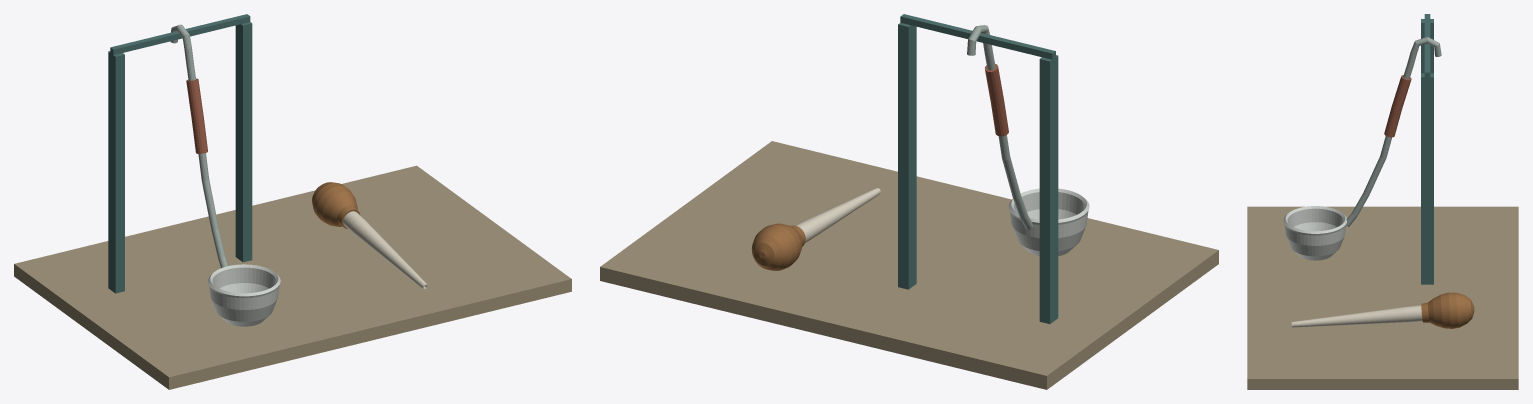
The picture shows the model from 3 angles, left to right: view 1: azimuth 30°, elevation 25°; view 2: azimuth 150°, elevation 25°; view 3: azimuth 270°, elevation 25°; orthographic projection. The views are drawn at different scales.
Parts seen in each view (by area): view 1: SCENE_ONLY__ConnectedLowDeckAndOpenUpperRail, ladle__WholeDeepOpenBowlWithSolidBottomAndRolledLip, ladle__WholeContinuousRisingShaftAndOpenReturnHook, baster__WholeRoundedBulbExteriorAndNarrowNeck, baster__WholeThroughBoredTaperedTube, ladle__WholeUpperGripSleeve; view 2: SCENE_ONLY__ConnectedLowDeckAndOpenUpperRail, ladle__WholeDeepOpenBowlWithSolidBottomAndRolledLip, baster__WholeRoundedBulbExteriorAndNarrowNeck, ladle__WholeContinuousRisingShaftAndOpenReturnHook, baster__WholeThroughBoredTaperedTube, ladle__WholeUpperGripSleeve; view 3: SCENE_ONLY__ConnectedLowDeckAndOpenUpperRail, ladle__WholeDeepOpenBowlWithSolidBottomAndRolledLip, baster__WholeThroughBoredTaperedTube, baster__WholeRoundedBulbExteriorAndNarrowNeck, ladle__WholeContinuousRisingShaftAndOpenReturnHook, ladle__WholeUpperGripSleeve.
Part boxes in pixels (box(x1,y1,x2,y2)): SCENE_ONLY__ConnectedLowDeckAndOpenUpperRail: box(14, 14, 571, 389); ladle__WholeDeepOpenBowlWithSolidBottomAndRolledLip: box(208, 264, 280, 326); ladle__WholeContinuousRisingShaftAndOpenReturnHook: box(170, 24, 228, 268); baster__WholeRoundedBulbExteriorAndNarrowNeck: box(312, 182, 360, 228); baster__WholeThroughBoredTaperedTube: box(343, 211, 428, 289); ladle__WholeUpperGripSleeve: box(186, 78, 207, 153); SCENE_ONLY__ConnectedLowDeckAndOpenUpperRail: box(600, 14, 1218, 389); ladle__WholeDeepOpenBowlWithSolidBottomAndRolledLip: box(1008, 188, 1089, 255); baster__WholeRoundedBulbExteriorAndNarrowNeck: box(751, 223, 805, 270); ladle__WholeContinuousRisingShaftAndOpenReturnHook: box(967, 25, 1033, 229); baster__WholeThroughBoredTaperedTube: box(796, 188, 880, 242); ladle__WholeUpperGripSleeve: box(984, 64, 1008, 136); SCENE_ONLY__ConnectedLowDeckAndOpenUpperRail: box(1247, 14, 1518, 389); ladle__WholeDeepOpenBowlWithSolidBottomAndRolledLip: box(1283, 206, 1346, 260); baster__WholeThroughBoredTaperedTube: box(1291, 305, 1422, 327); baster__WholeRoundedBulbExteriorAndNarrowNeck: box(1421, 292, 1474, 328); ladle__WholeContinuousRisingShaftAndOpenReturnHook: box(1346, 37, 1441, 226); ladle__WholeUpperGripSleeve: box(1384, 75, 1411, 137).
Size of the model in its own units: 0.6 by 0.373 by 0.4.
